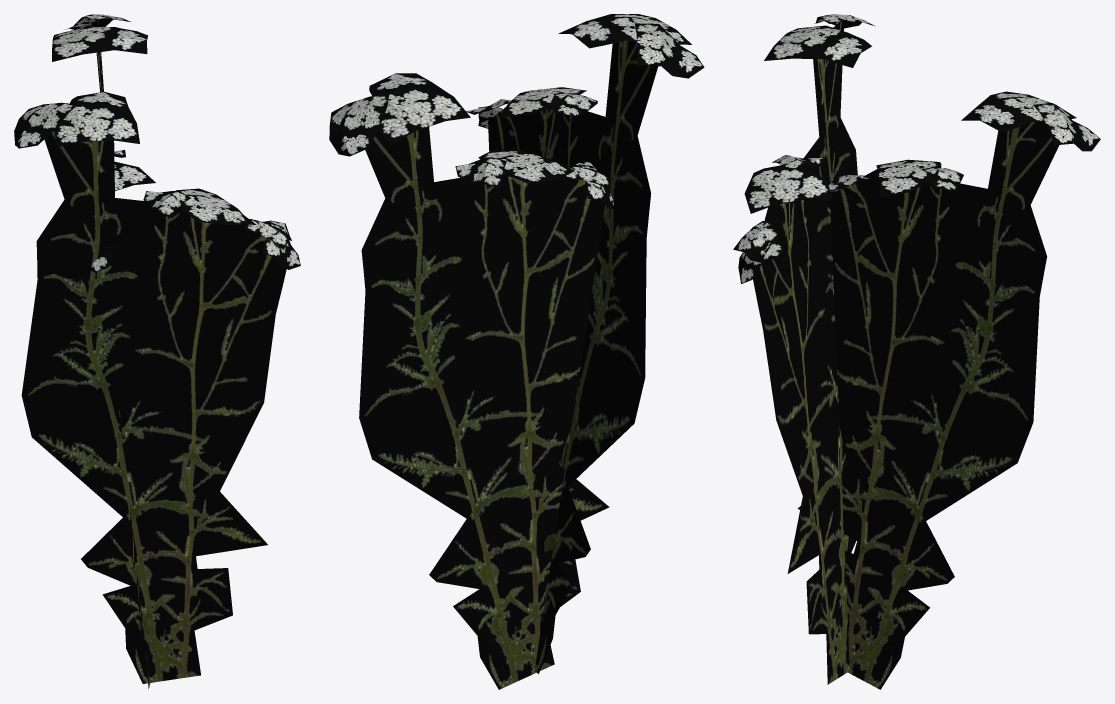
Rendered from 01_Achillea_millefolium_high_001.fbx.
3 renders of one model, left to right at view 1: azimuth 30°, elevation 25°; view 2: azimuth 150°, elevation 25°; view 3: azimuth 270°, elevation 25°, orthographic. The views are drawn at different scales.
Parts seen in each view (by area): view 1: 01_Achillea_millefolium_high.001; view 2: 01_Achillea_millefolium_high.001; view 3: 01_Achillea_millefolium_high.001.
Boxes of the visible parts, left/top/right/bottom form: 01_Achillea_millefolium_high.001: left=14, top=14, right=300, bottom=688; 01_Achillea_millefolium_high.001: left=329, top=14, right=704, bottom=689; 01_Achillea_millefolium_high.001: left=733, top=14, right=1100, bottom=689.
Bounding box in the file's own units: 0.2394 × 0.5793 × 0.3128.
